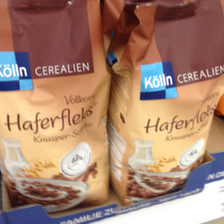cereal: (1, 1, 113, 212), (108, 1, 224, 202)
